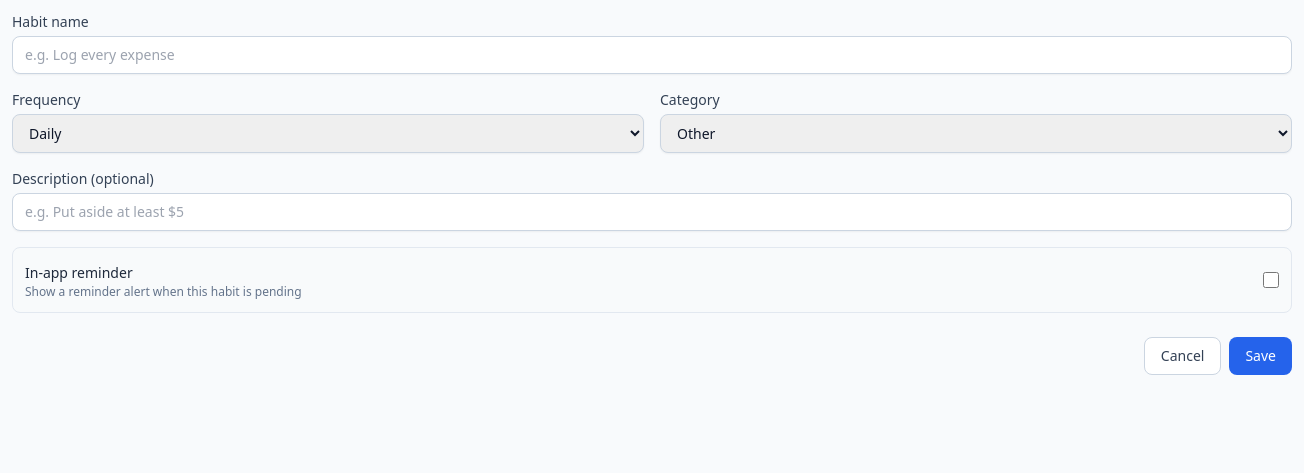
Test case: HabitsPage & HabitForm - Frequencies and Reminders › renders frequency options and toggles reminder time input in HabitForm
Expected: the field labelled "Habit name" is shown, [12,36,1292,74]
Expected: the dropdown labelled "Frequency" is shown, [12,114,644,153]
# Toggle reminder checkbox on
Click the checkbox labelled "In-app reminder": (1271, 280) [1263,272,1279,288]
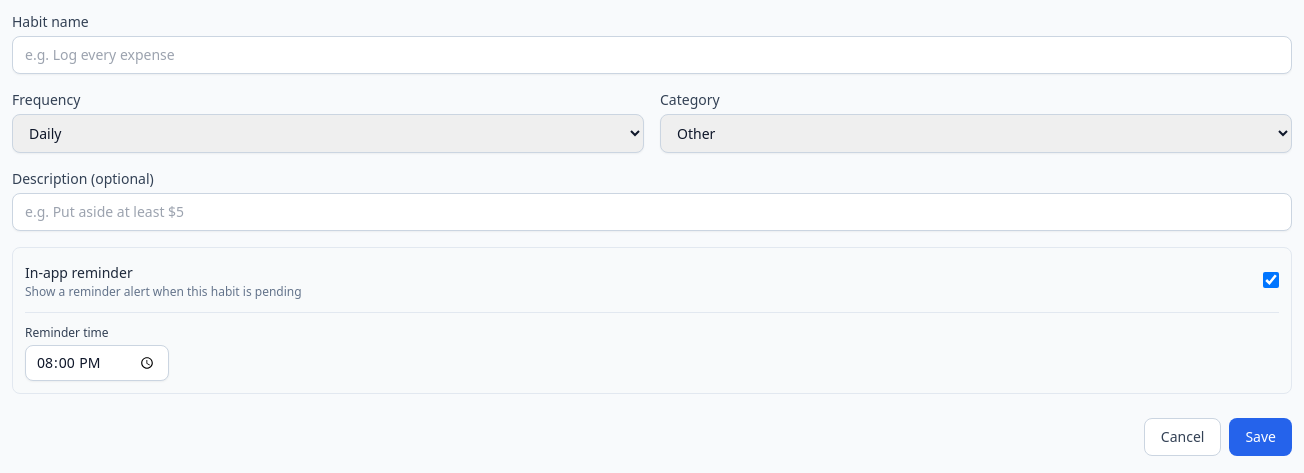
Expected: the checkbox labelled "In-app reminder" is checked, [1263,272,1279,288]
Expected: the time field labelled "Reminder time" is shown, [25,345,169,381]
